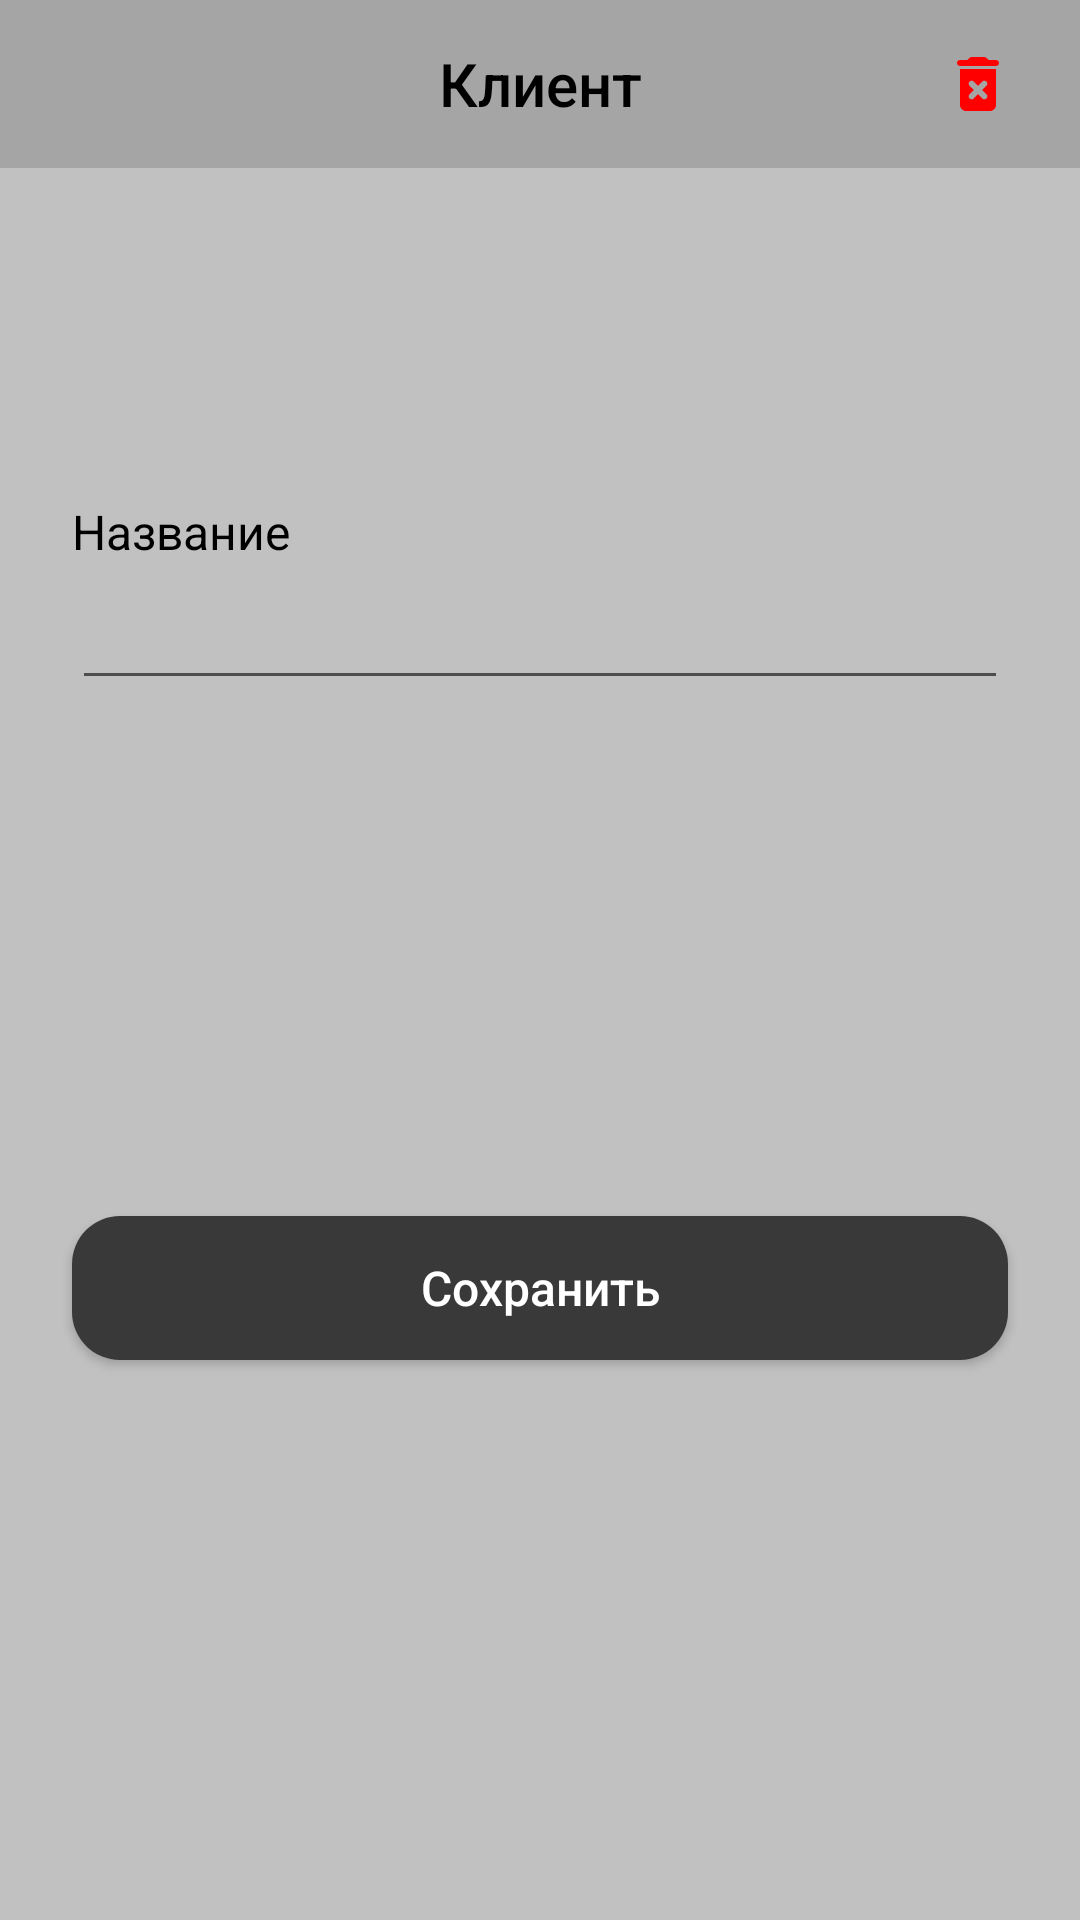

Icons on this 1080w x 1920h Android screen, each with its box as box(x1, y1, x2, y2):
delete: box(957, 57, 999, 111)
